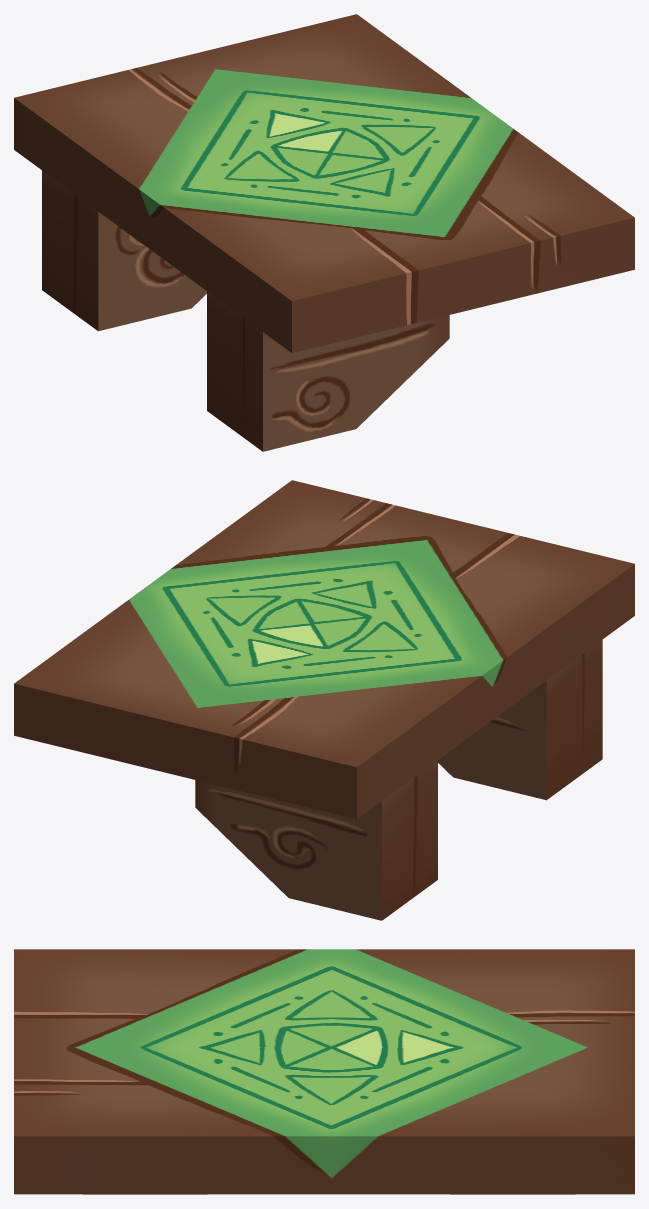
Rendered from PVB export muur plankje.fbx.
3 views of the same model, one above another, from view 1: azimuth 30°, elevation 25°; view 2: azimuth 150°, elevation 25°; view 3: azimuth 270°, elevation 25° (orthographic). The views are drawn at different scales.
Visible parts, largest first — view 1: plank, poot_links, poot_rechts; view 2: plank, poot_rechts, poot_links; view 3: plank.
Part boxes in pixels (x1,y1,x2,y2): plank: [14, 14, 634, 353]; poot_links: [207, 291, 449, 451]; poot_rechts: [42, 170, 206, 331]; plank: [14, 480, 634, 819]; poot_rechts: [195, 760, 437, 920]; poot_links: [438, 640, 602, 800]; plank: [14, 949, 634, 1194].
Bounding box in the file's own units: 0.7119 × 0.3439 × 1.
Materials: 1 (1 with a texture image).
